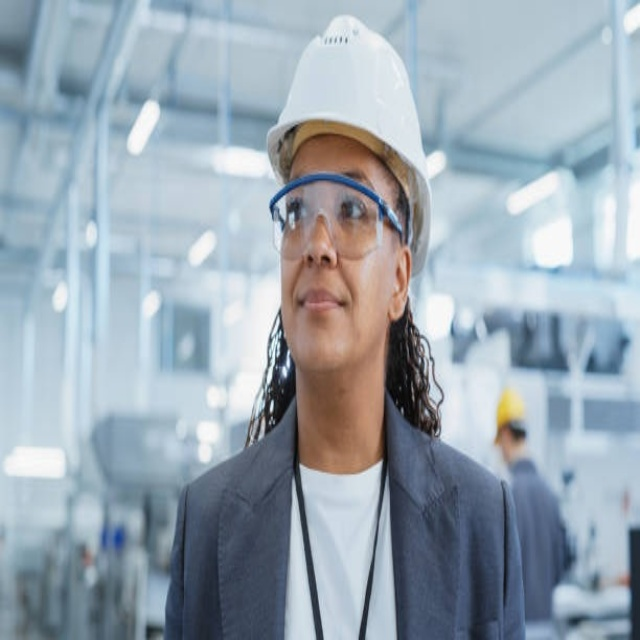Gafas: (269, 180, 404, 260)
Sin_mascara: (289, 283, 349, 348)
